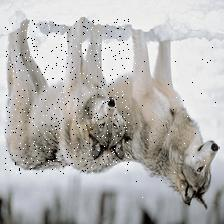WOLF: (5, 19, 129, 174), (133, 27, 220, 204)
